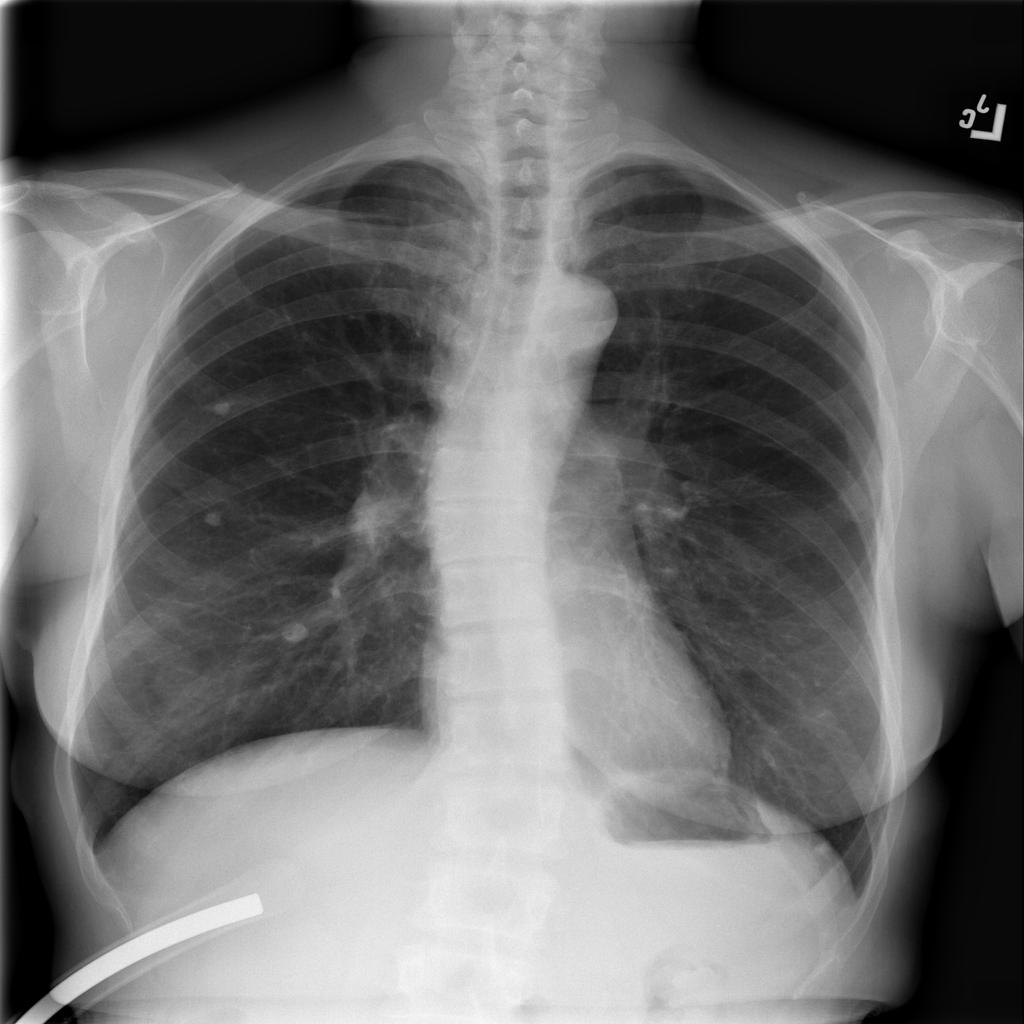nodule: (188, 495, 243, 539), (270, 606, 321, 653), (193, 383, 250, 425)
